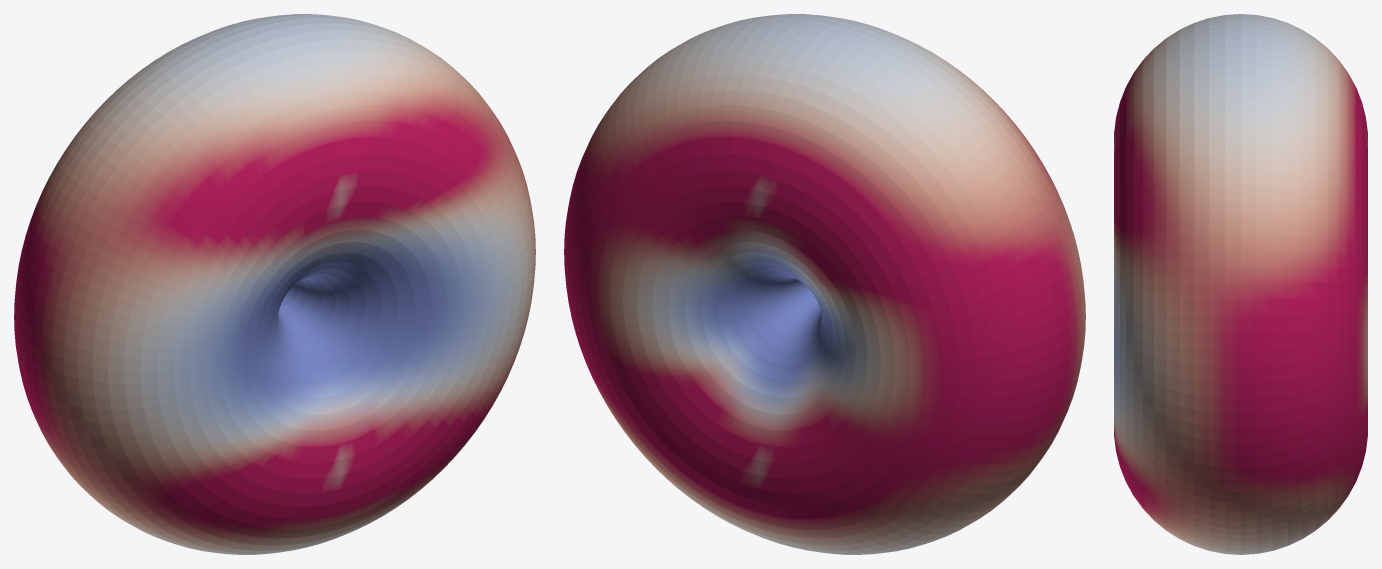
The picture shows the model from 3 angles, left to right: view 1: azimuth 30°, elevation 25°; view 2: azimuth 150°, elevation 25°; view 3: azimuth 270°, elevation 25°; orthographic projection. The views are drawn at different scales.
Visible parts, largest first — view 1: world; view 2: world; view 3: world.
Boxes of the visible parts, <box> form: world: <box>14,14,535,554</box>; world: <box>564,14,1085,554</box>; world: <box>1114,14,1367,554</box>.
Bounding box in the file's own units: 20.13 × 20.13 × 9.45.
